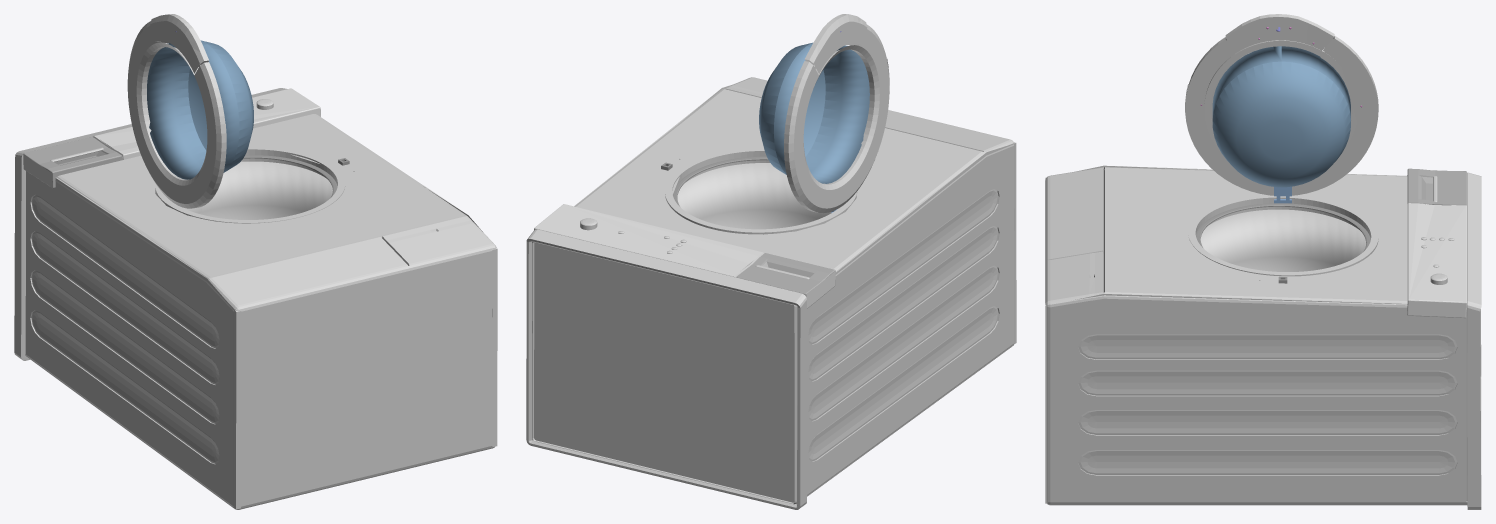
The model's file is WaMa.dae.
The picture shows the model from 3 angles, left to right: view 1: azimuth 30°, elevation 25°; view 2: azimuth 150°, elevation 25°; view 3: azimuth 270°, elevation 25°; orthographic projection.
Visible parts, largest first — view 1: ChamferBox, Box01, ChamferCy0, Tube02, ChamferCy1, ChamferBo0, ChamferBo3, ChamferBo1, Tube01, Tube03, Box02; view 2: ChamferBo0, Box01, ChamferBox, ChamferCy0, Tube02, ChamferCy1, ChamferBo1, ChamferBo3, Tube01, Tube03; view 3: Box02, ChamferBox, ChamferCy0, ChamferCy1, Tube02, ChamferBo1, ChamferBo0, Tube01, Tube03, ChamferBo3, Tube05, Tube04.
Boxes of the visible parts, x1,y1,x2,y2 form: ChamferBox: (25, 114, 496, 509); Box01: (25, 171, 241, 509); ChamferCy0: (147, 40, 253, 179); Tube02: (127, 21, 226, 208); ChamferCy1: (182, 161, 332, 219); ChamferBo0: (14, 88, 286, 360); ChamferBo3: (23, 136, 123, 188); ChamferBo1: (93, 88, 320, 159); Tube01: (155, 146, 345, 223); Tube03: (150, 14, 226, 159); Box02: (317, 115, 497, 447); ChamferBo0: (526, 229, 806, 509); Box01: (807, 142, 1016, 495); ChamferBox: (532, 77, 1014, 504); ChamferCy0: (759, 42, 869, 183); Tube02: (784, 24, 889, 213); ChamferCy1: (677, 163, 831, 229); ChamferBo1: (534, 204, 763, 277); ChamferBo3: (736, 253, 835, 308); Tube01: (665, 147, 857, 234); Tube03: (804, 14, 889, 82); Box02: (1045, 292, 1466, 503); ChamferBox: (1045, 167, 1467, 505); ChamferCy0: (1212, 46, 1350, 187); ChamferCy1: (1200, 209, 1365, 271); Tube02: (1185, 36, 1378, 195); ChamferBo1: (1407, 203, 1466, 318); ChamferBo0: (1467, 172, 1481, 509); Tube01: (1188, 195, 1378, 276); Tube03: (1185, 14, 1334, 112); ChamferBo3: (1407, 168, 1466, 205); Tube05: (1204, 40, 1357, 151); Tube04: (1196, 203, 1370, 251).
Size of the model in its own units: 4.66 by 6.5 by 6.52.
